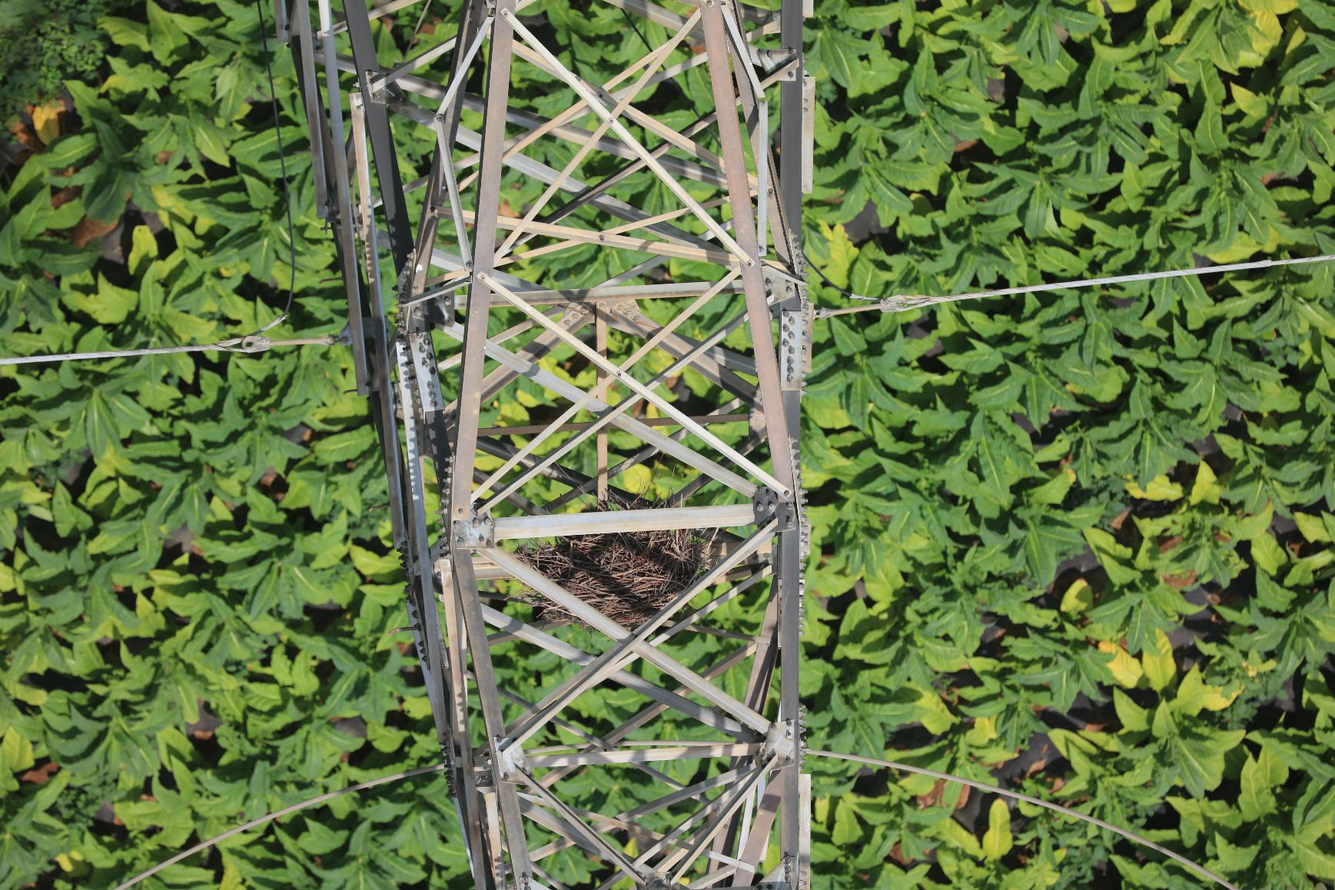nest: (510, 526, 709, 632)
